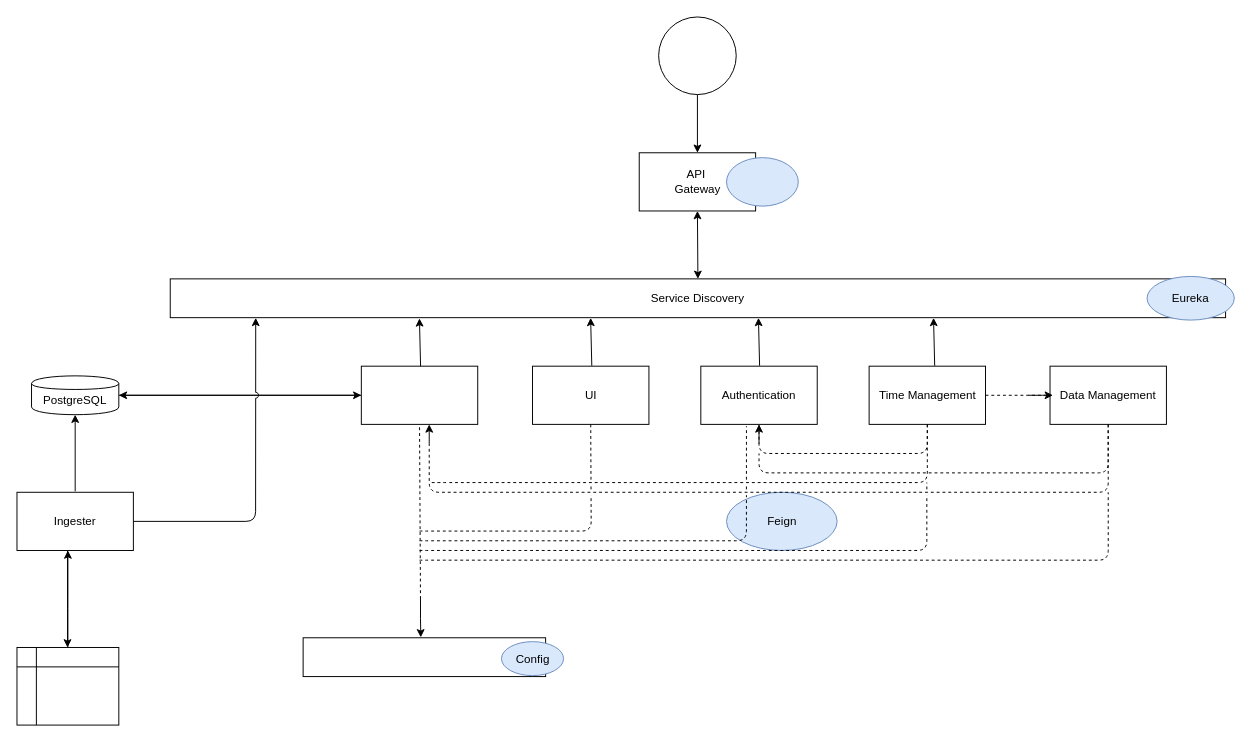
Some shapes in this 1251 by 742 pixel diagram are drawn without their labels. Here are the shapes that lost their labels. From the top down, the box of each, then its label:
(658, 16, 736, 95): Client (Browser)
(726, 157, 798, 206): Zuul
(360, 365, 478, 424): Persistence
(302, 637, 546, 677): Configuration Server
(16, 647, 119, 725): Access File
